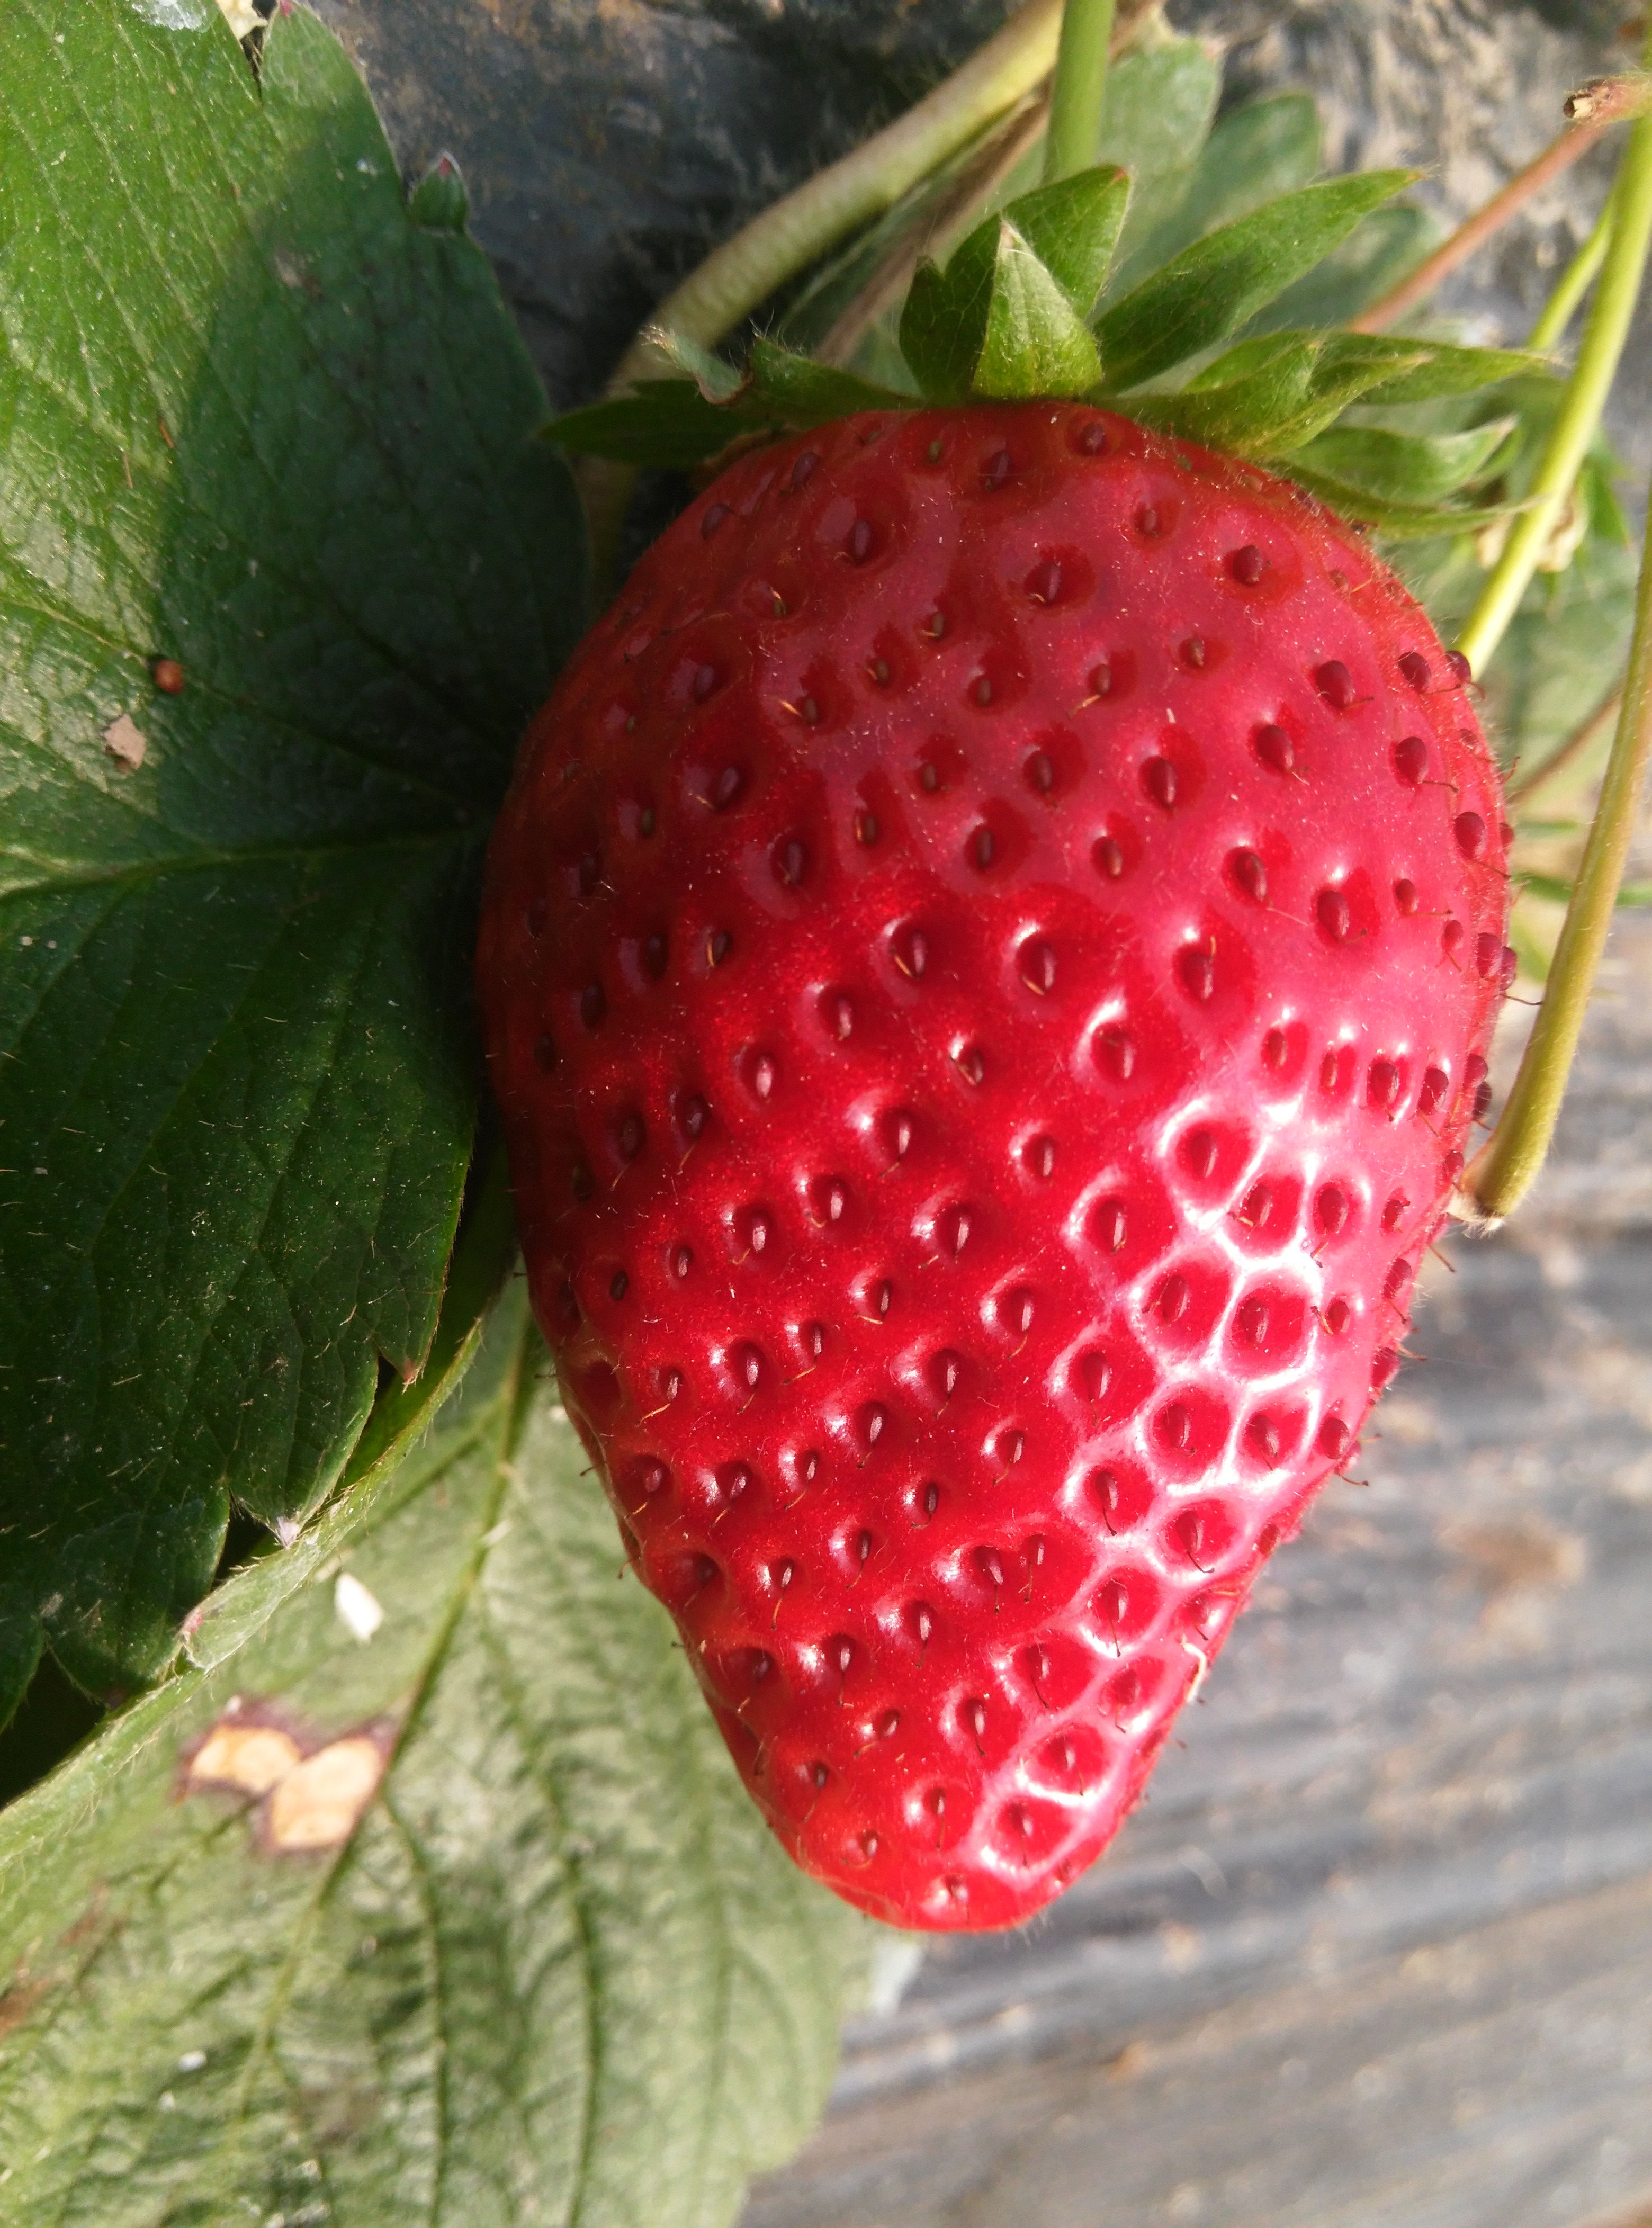StrawberryCone: (432, 380, 1536, 1904)
StrawberryRemovable: (441, 392, 1529, 1900)
